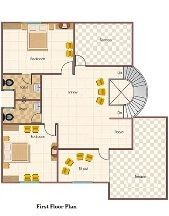door: (59, 59, 73, 74), (44, 124, 57, 138), (100, 147, 111, 162), (21, 74, 33, 87), (75, 52, 86, 66)
room: (42, 71, 136, 150), (1, 21, 75, 74), (1, 123, 60, 183), (73, 23, 134, 66), (1, 74, 44, 124), (57, 150, 113, 185)
wall: (40, 20, 134, 25), (163, 114, 168, 203), (54, 124, 60, 183), (86, 63, 133, 68), (1, 122, 46, 127), (108, 197, 164, 201), (3, 121, 44, 126), (14, 96, 42, 103), (1, 124, 4, 183), (133, 115, 167, 120), (56, 147, 98, 151), (39, 73, 43, 115), (30, 71, 63, 76), (1, 20, 4, 74), (130, 21, 134, 61), (41, 180, 72, 185), (130, 116, 134, 152), (1, 71, 24, 76), (108, 147, 134, 151), (1, 180, 19, 185), (72, 23, 74, 65), (107, 182, 112, 198), (2, 20, 21, 24), (94, 180, 108, 185), (13, 90, 16, 109)
window: (73, 179, 93, 185), (25, 21, 40, 25)
